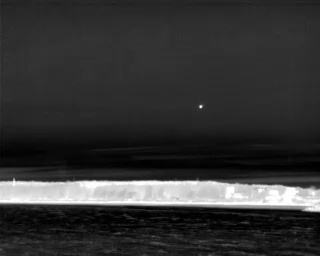HELICOPTER: (196, 101, 206, 112)
